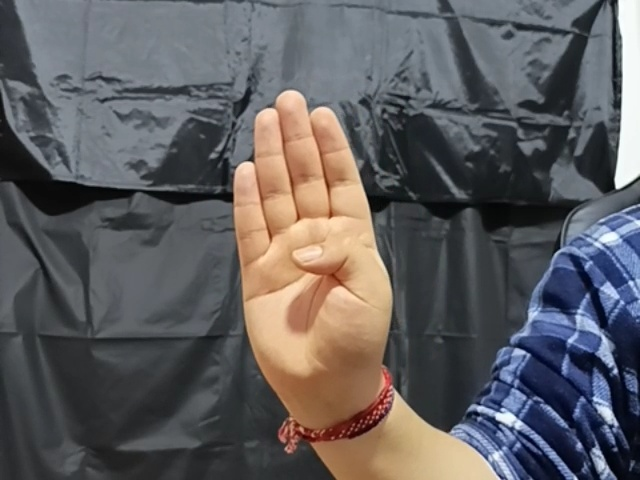B: (221, 90, 408, 385)
